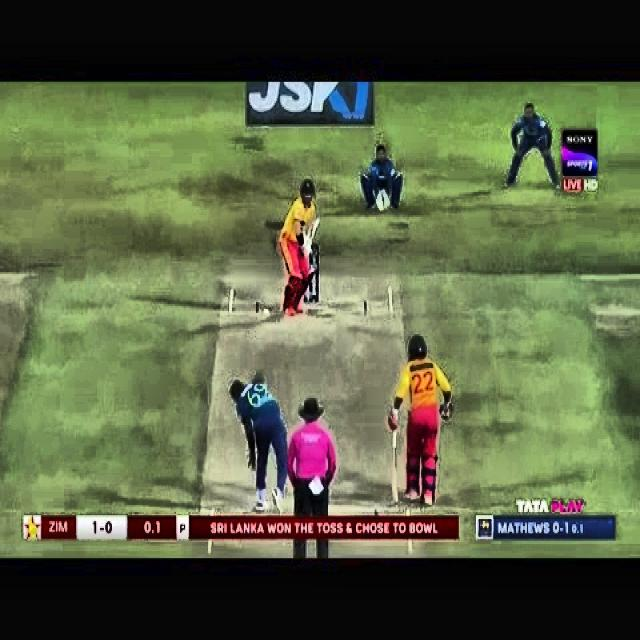Left-stump: (303, 294, 307, 302)
Middle-stump: (309, 282, 313, 300)
Right-stump: (315, 247, 318, 301)
